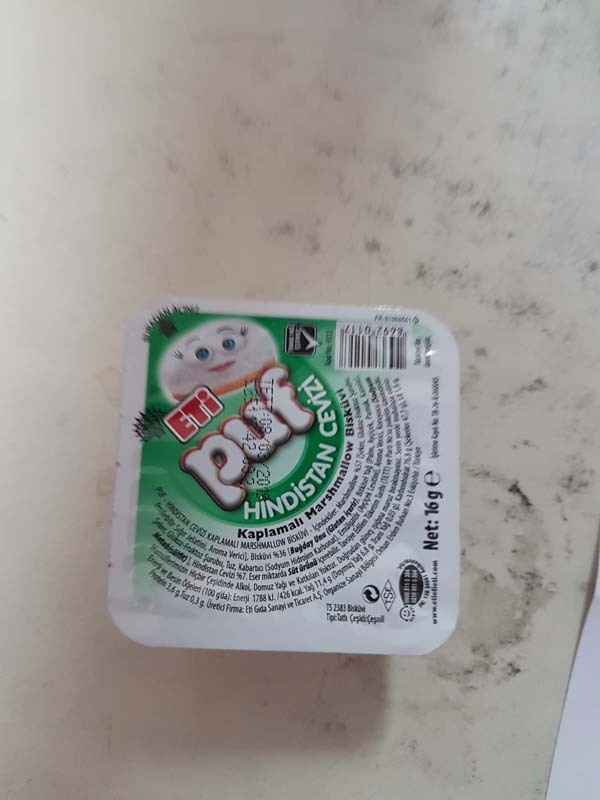etipuf: (106, 284, 459, 655)
